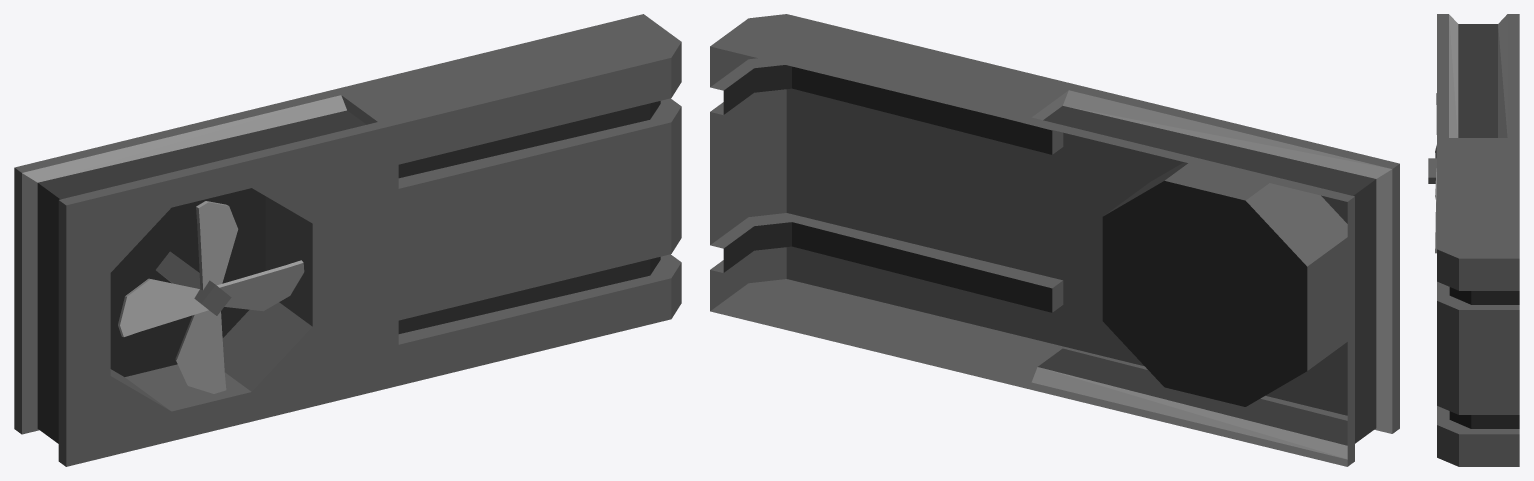
The model's file is vent_C.FBX.
The picture shows the model from 3 angles, left to right: view 1: azimuth 30°, elevation 25°; view 2: azimuth 150°, elevation 25°; view 3: azimuth 270°, elevation 25°; orthographic projection. The views are drawn at different scales.
Parts seen in each view (by area): view 1: vent_C; view 2: vent_C; view 3: vent_C.
Boxes of the visible parts, x1=… form: vent_C: x1=14, y1=14, x2=681, y2=466; vent_C: x1=710, y1=14, x2=1399, y2=466; vent_C: x1=1428, y1=14, x2=1519, y2=466.
Size of the model in its own units: 43.92 by 17.45 by 6.91.
